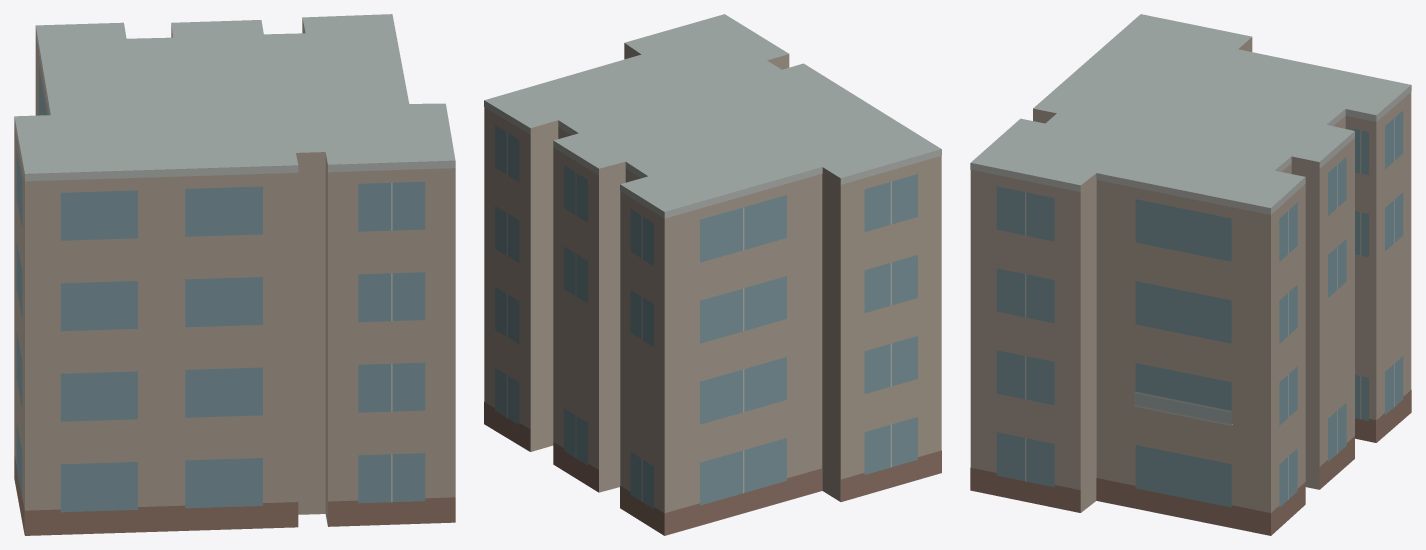
The model's file is survey-upis-32543125.glb.
3 renders of one model, left to right at view 1: azimuth 30°, elevation 25°; view 2: azimuth 150°, elevation 25°; view 3: azimuth 270°, elevation 25°, orthographic. The views are drawn at different scales.
Visible parts, largest first — view 1: survey-upis-32543125.tmp; view 2: survey-upis-32543125.tmp; view 3: survey-upis-32543125.tmp.
Boxes of the visible parts, x1,y1,x2,y2 form: survey-upis-32543125.tmp: (14,14,455,535); survey-upis-32543125.tmp: (484,14,941,535); survey-upis-32543125.tmp: (970,14,1411,535).
Size of the model in its own units: 15 by 11.8 by 14.4.
